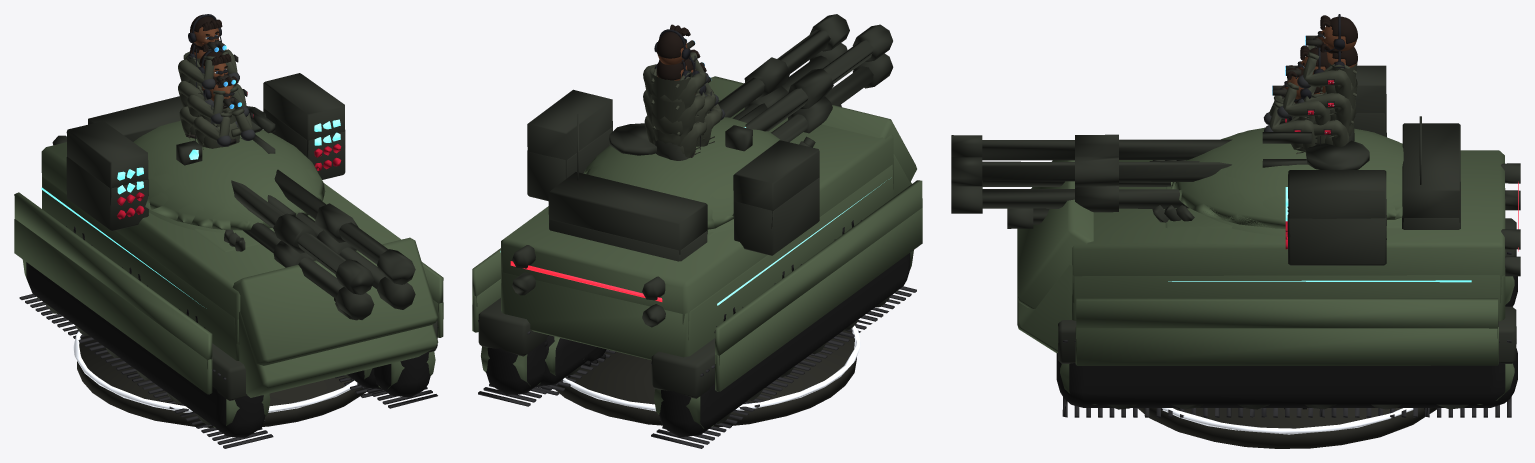
Rendered from bjoern_std.glb.
3 renders of one model, left to right at view 1: azimuth 30°, elevation 25°; view 2: azimuth 150°, elevation 25°; view 3: azimuth 270°, elevation 25°, orthographic. The views are drawn at different scales.
Parts seen in each view (by area): view 1: op4.003_net, ned4_net, fod_net, ned1.002_net, op4.001_net, ned2.001_net, ned2_net, op4_net, ned3.001_net, ned2.002_net, ned4.001_net; view 2: op4.003_net, ned4_net, fod_net, op4.001_net, ned3.001_net, ned4.001_net, op4_net, ned3_net, ned2.001_net, ned1.002_net, ned4.002_net, ned2_net; view 3: op4.003_net, ned4_net, fod_net, op4.001_net, ned2.001_net, ned2_net, ned1.002_net, op4_net, ned4.001_net, ned3.001_net, ned3_net.
Part boxes in pixels (x1,y1,x2,y2): op4.003_net: [14, 73, 443, 400]; ned4_net: [14, 108, 443, 448]; fod_net: [73, 331, 365, 427]; ned1.002_net: [193, 92, 255, 149]; op4.001_net: [178, 35, 239, 137]; ned2.001_net: [66, 40, 315, 328]; ned2_net: [187, 69, 249, 141]; op4_net: [188, 14, 222, 50]; ned3.001_net: [263, 298, 383, 422]; ned2.002_net: [198, 49, 231, 77]; ned4.001_net: [178, 81, 238, 138]; op4.003_net: [472, 14, 922, 398]; ned4_net: [472, 43, 922, 448]; fod_net: [556, 325, 860, 427]; op4.001_net: [643, 41, 709, 160]; ned3.001_net: [534, 105, 841, 420]; ned4.001_net: [643, 88, 707, 157]; op4_net: [654, 24, 690, 64]; ned3_net: [644, 115, 706, 158]; ned2.001_net: [544, 103, 861, 377]; ned1.002_net: [696, 90, 725, 146]; ned4.002_net: [654, 55, 690, 80]; ned2_net: [694, 82, 718, 149]; op4.003_net: [951, 65, 1520, 363]; ned4_net: [951, 94, 1520, 417]; fod_net: [1137, 408, 1436, 448]; op4.001_net: [1297, 31, 1357, 141]; ned2.001_net: [1149, 116, 1424, 409]; ned2_net: [1277, 61, 1330, 145]; ned1.002_net: [1263, 81, 1317, 154]; op4_net: [1318, 14, 1357, 53]; ned4.001_net: [1297, 79, 1357, 137]; ned3.001_net: [1007, 208, 1049, 228]; ned3_net: [1303, 116, 1353, 146].
Bounding box in the file's own units: 1.94 × 2.28 × 3.24.
